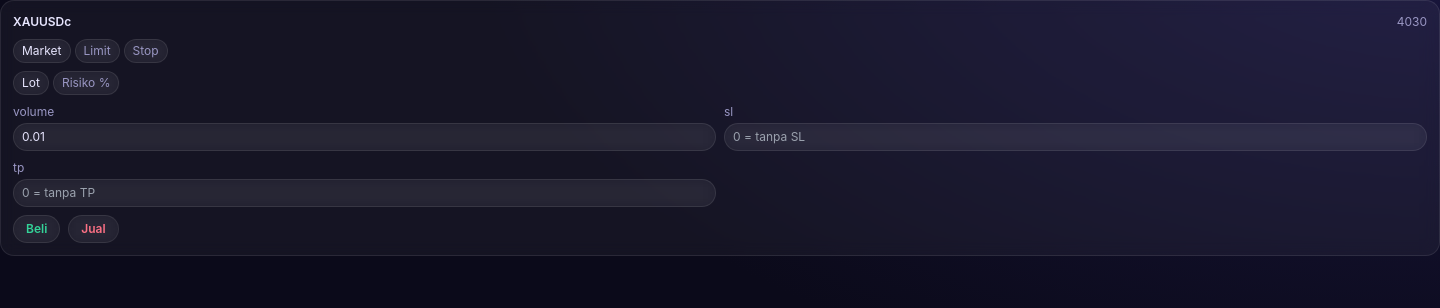
Test: PaperOrderPanel › shows the server's refusal instead of pretending the order landed
Type "4025" into the field labelled "sl" at (1076, 137), box [724,123,1427,151]
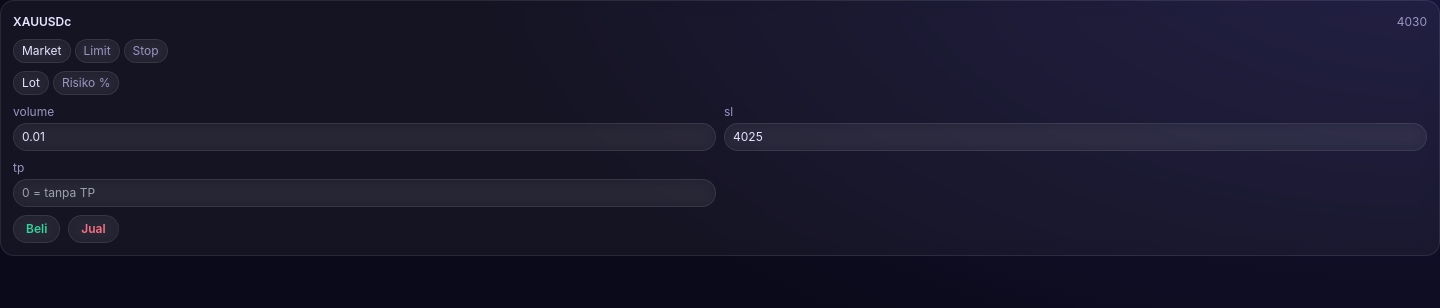
Click the button "Beli" at (37, 229), box [13,215,60,243]
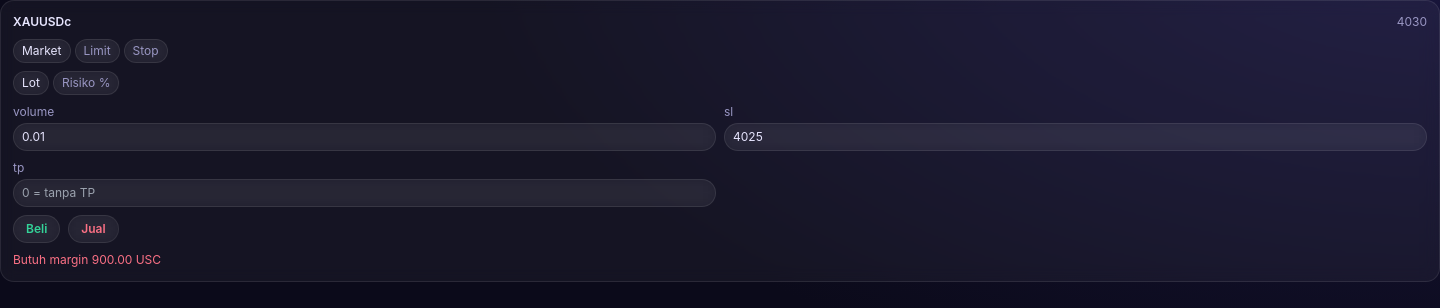
Expected: the message shows "margin", [13,252,161,267]
